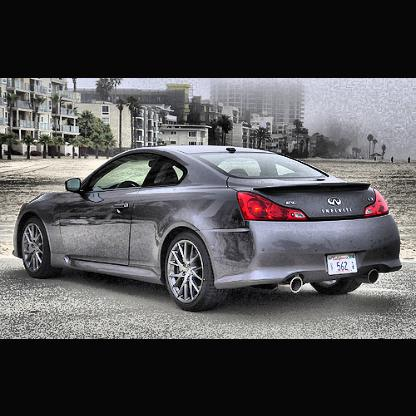Infiniti G Coupe IPL 2012: (12, 141, 407, 313)
